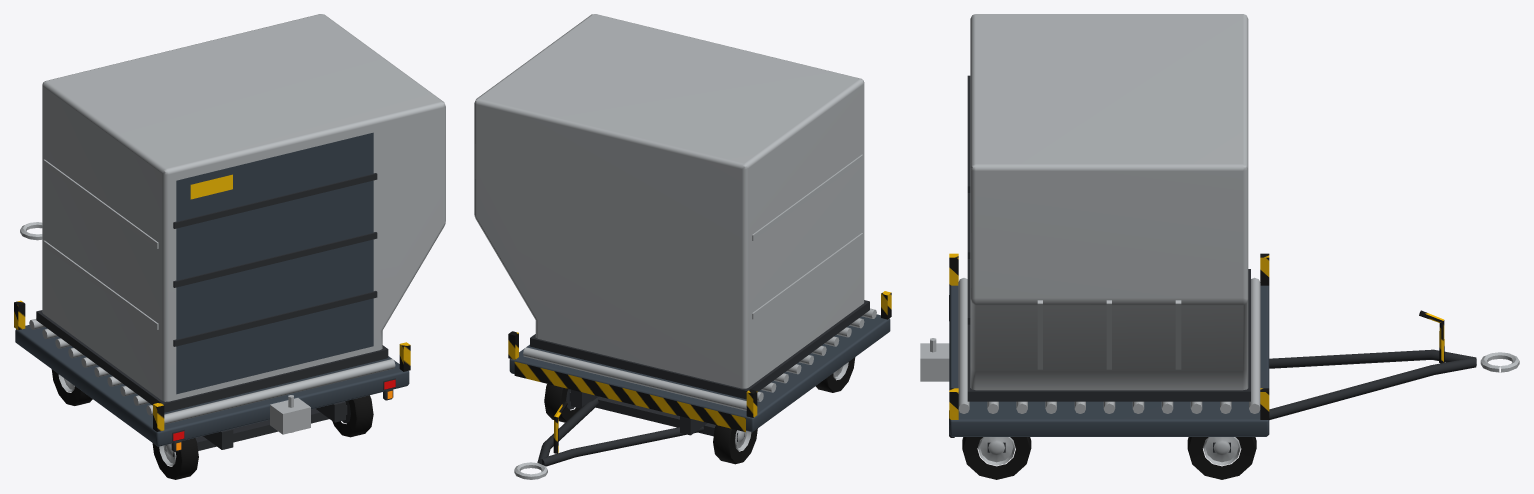
Rendered from uld_dolly.glb.
3 views of the same model, side by side, from view 1: azimuth 30°, elevation 25°; view 2: azimuth 150°, elevation 25°; view 3: azimuth 270°, elevation 25° (orthographic). The views are drawn at different scales.
Visible parts, largest first — view 1: Body, Wheels; view 2: Body, Wheels; view 3: Body, Wheels.
Part boxes in pixels (x1,y1,x2,y2): Body: [14, 14, 445, 456]; Wheels: [51, 369, 373, 479]; Body: [474, 14, 891, 479]; Wheels: [544, 357, 855, 464]; Body: [920, 14, 1519, 452]; Wheels: [962, 437, 1256, 479].
Size of what is drawn, in the model's own units: 2.15 by 2.17 by 3.3.
7 materials, 3 textured.
